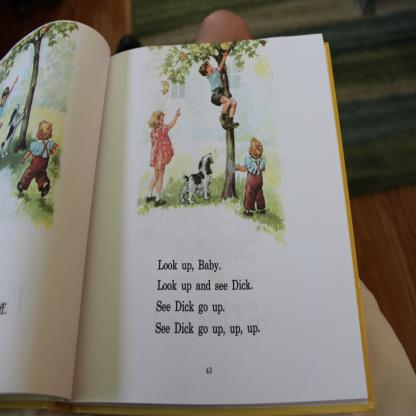book: (20, 16, 388, 391)
